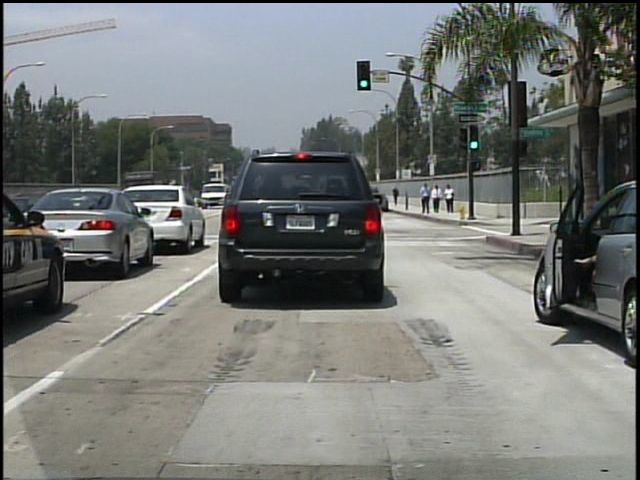person: (420, 180, 432, 214), (445, 183, 458, 214), (433, 182, 445, 213), (392, 185, 402, 207)
